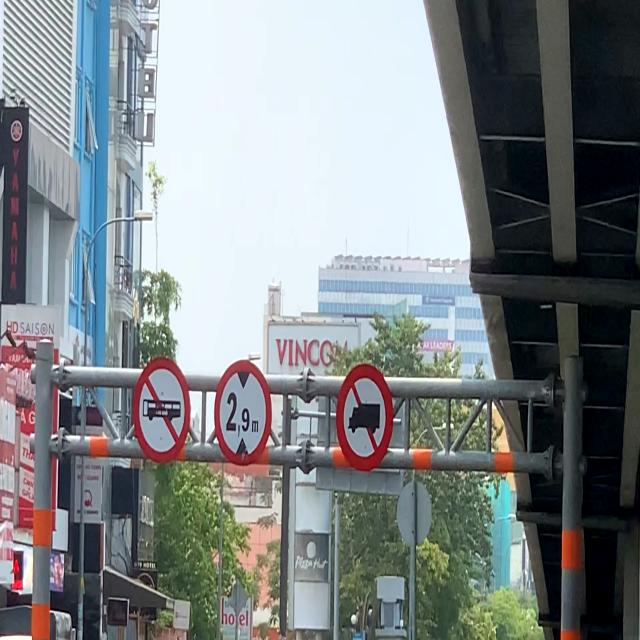P.106a: (336, 363, 394, 473)
P.117: (215, 360, 272, 467)
